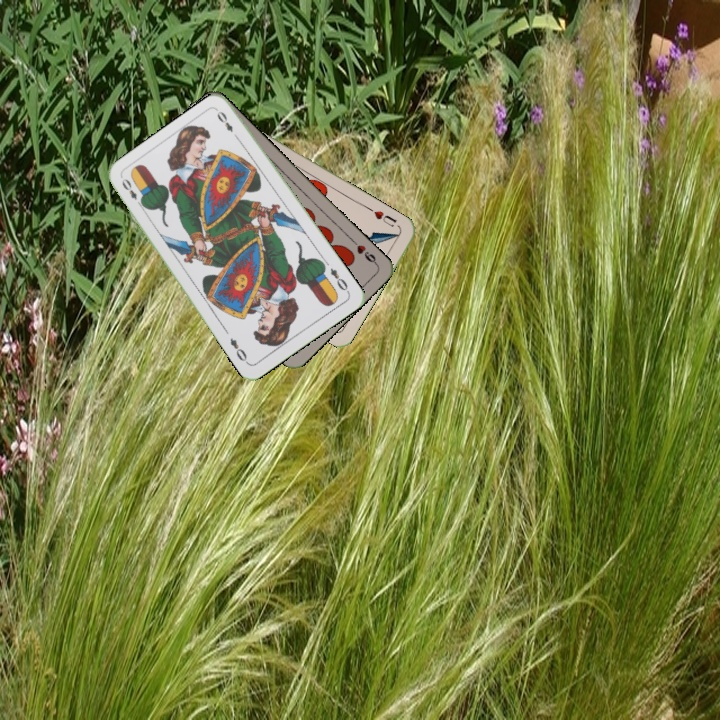EO: (117, 174, 146, 210), (326, 264, 352, 295)
H9: (348, 235, 380, 268)
HU: (370, 207, 399, 230)
